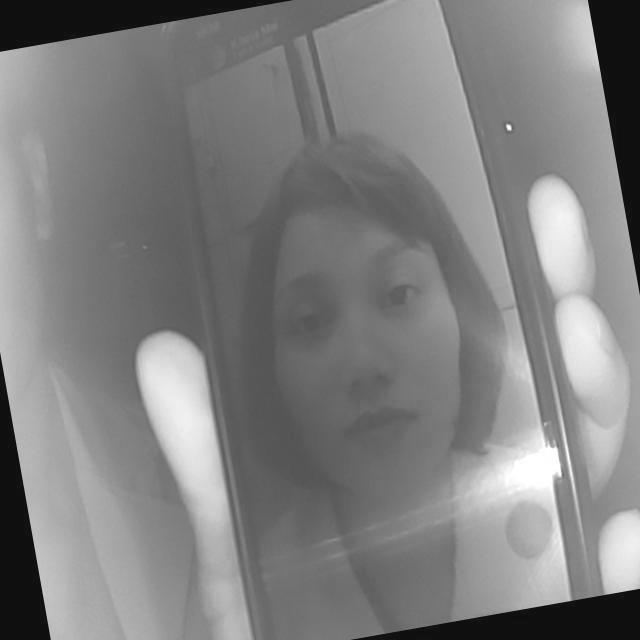fake: (137, 0, 619, 640)
